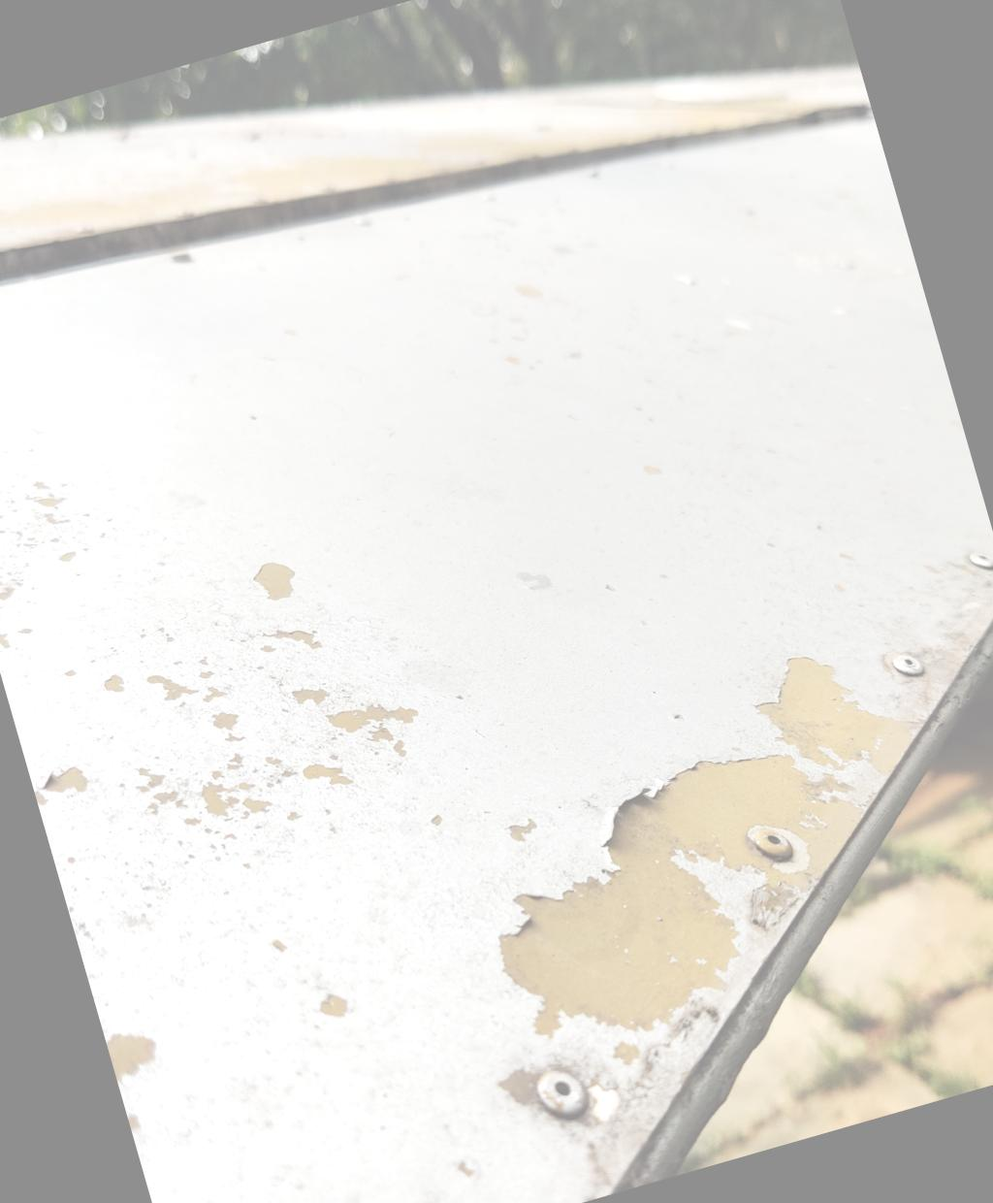corrosion: (448, 609, 993, 1065)
